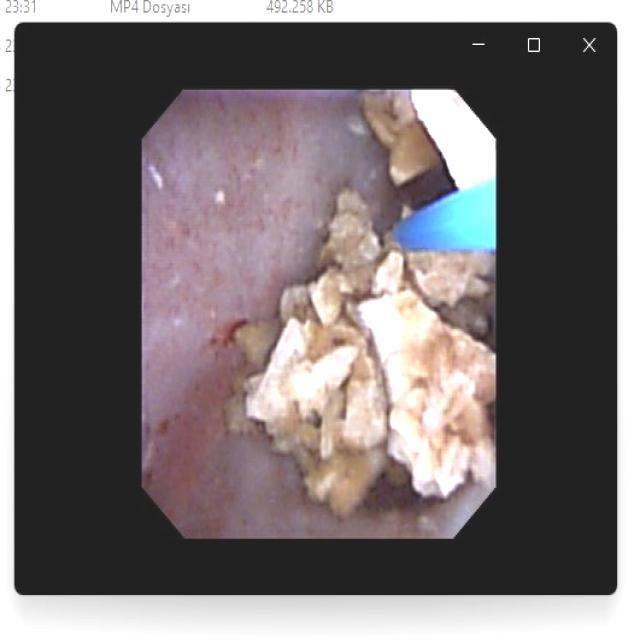fiber: (395, 185, 492, 245)
stone: (228, 192, 492, 525), (362, 92, 441, 183)
